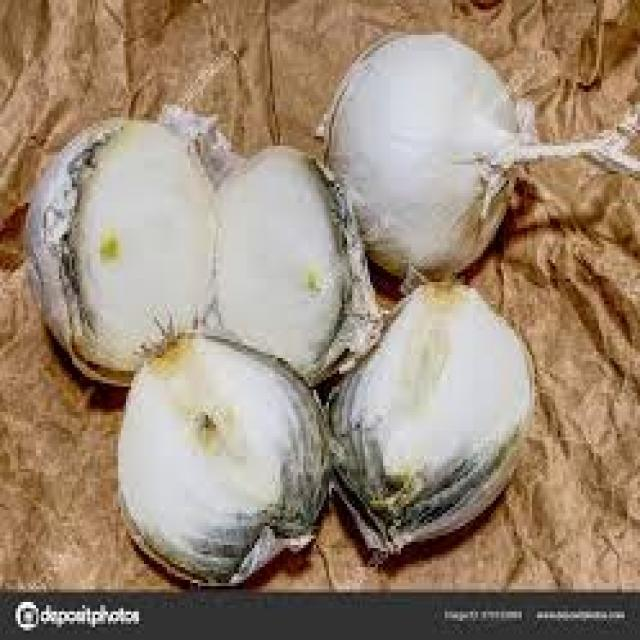Onion: (317, 30, 640, 277), (326, 270, 538, 569), (117, 318, 334, 592), (23, 119, 220, 389), (202, 144, 381, 384)
